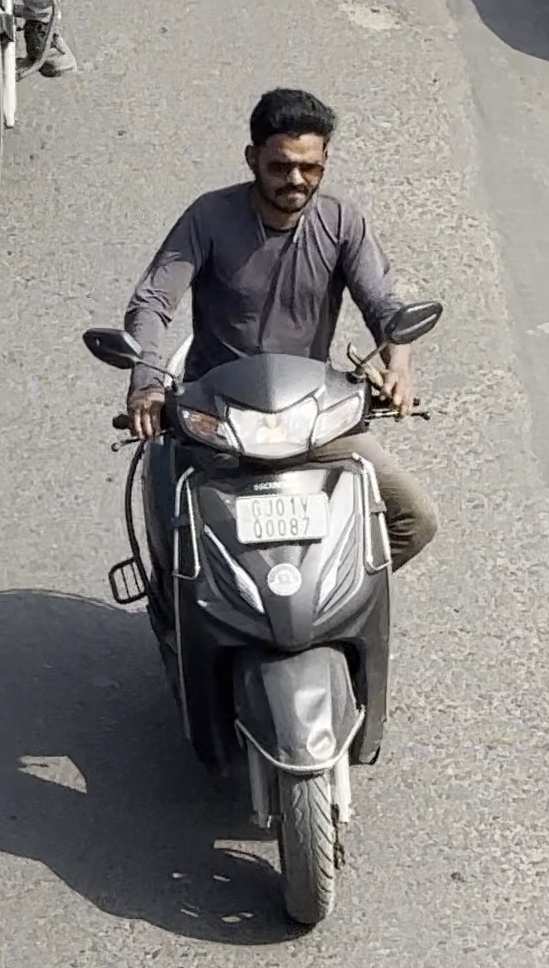BikeWithRider: (64, 57, 500, 937)
NoHelmet: (227, 82, 349, 218)
